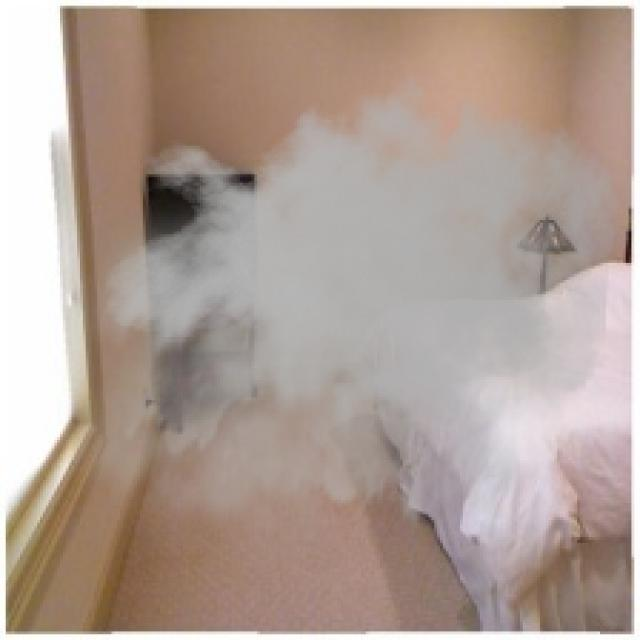smoke: (51, 57, 620, 589)
